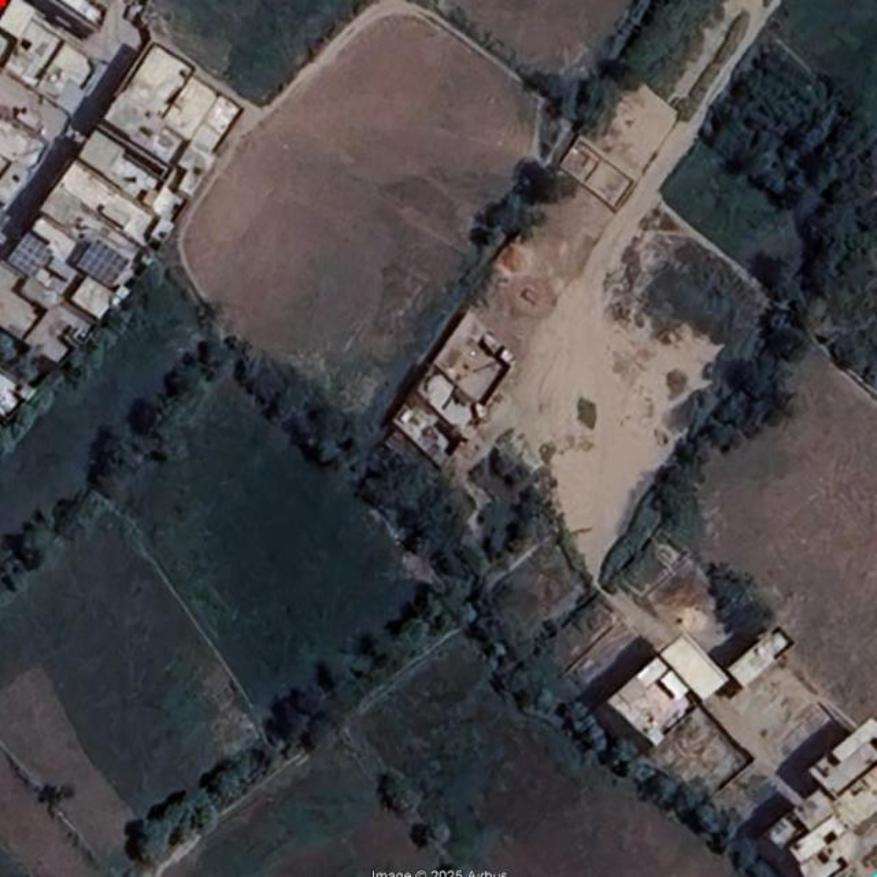Solarpanel: (78, 239, 130, 287), (8, 232, 52, 276)
